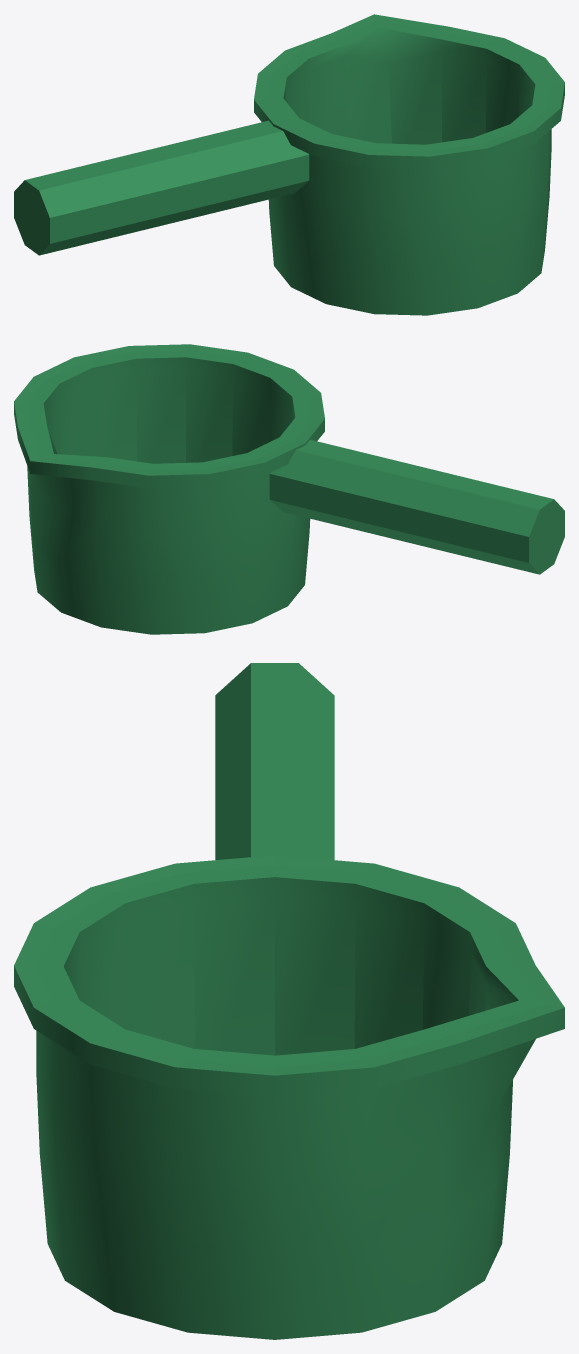
The model's file is tabo.fbx.
3 views of the same model, one above another, from view 1: azimuth 30°, elevation 25°; view 2: azimuth 150°, elevation 25°; view 3: azimuth 270°, elevation 25° (orthographic). The views are drawn at different scales.
Visible parts, largest first — view 1: pCube2; view 2: pCube2; view 3: pCube2.
Boxes of the visible parts, box(x1,y1,x2,y2) form: pCube2: box(14, 14, 564, 315); pCube2: box(14, 344, 564, 634); pCube2: box(14, 663, 564, 1339).
Size of the model in its own units: 4.13 by 1.29 by 2.31.
